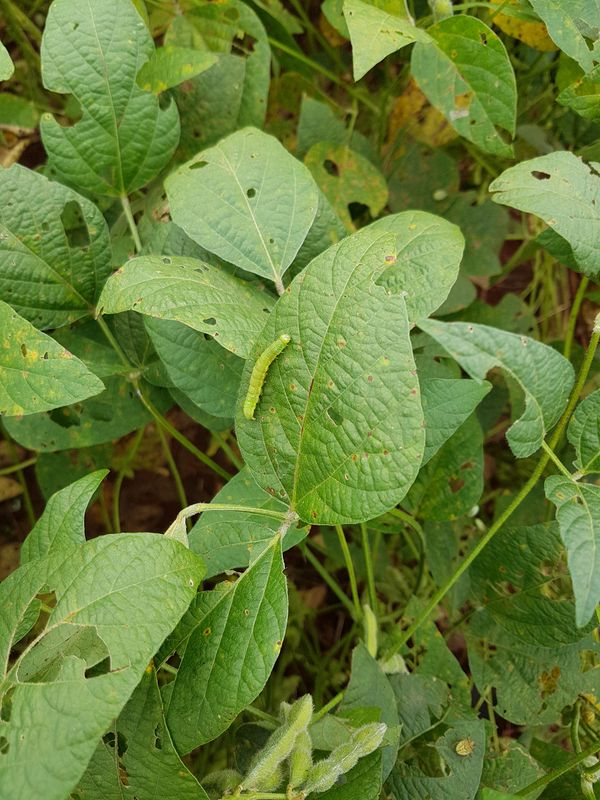Anticarsia_gemmatalis: (233, 325, 309, 426)
Euschistus_heros_ninfa: (447, 731, 482, 766)
